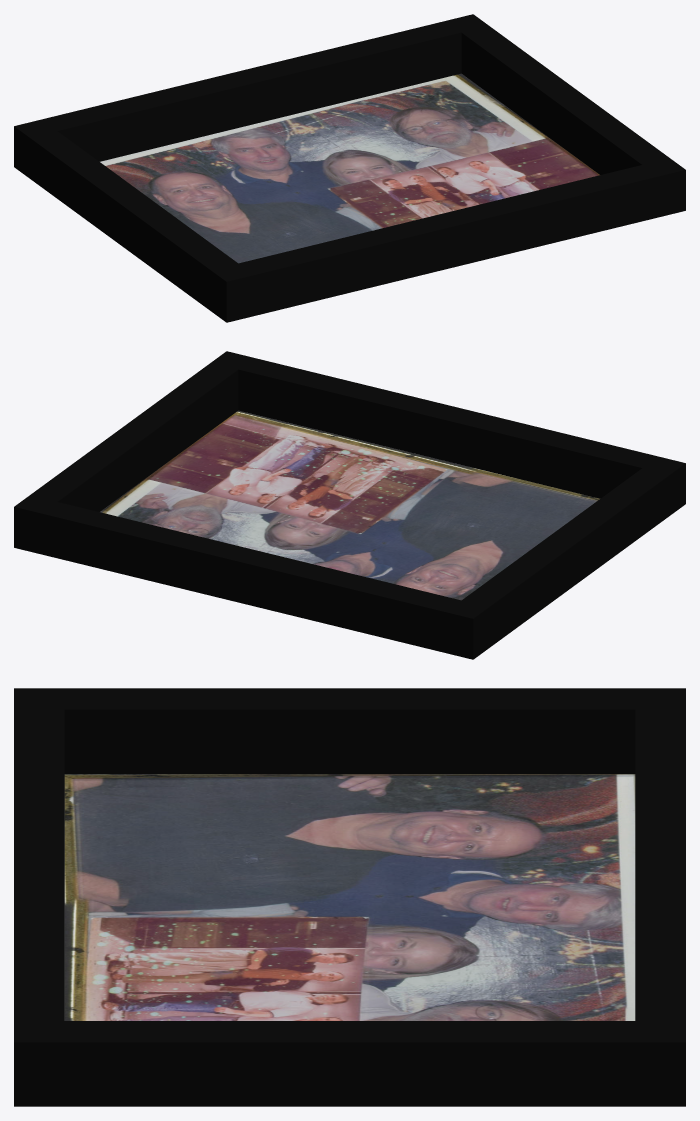
The model's file is frame.obj.
3 renders of one model, top to bottom at view 1: azimuth 30°, elevation 25°; view 2: azimuth 150°, elevation 25°; view 3: azimuth 270°, elevation 25°, orthographic. The views are drawn at different scales.
Visible parts, largest first — view 1: Plane_Plane.002; view 2: Plane_Plane.002; view 3: Plane_Plane.002.
Boxes of the visible parts, x1,y1,x2,y2 form: Plane_Plane.002: [14, 14, 685, 322]; Plane_Plane.002: [14, 351, 685, 659]; Plane_Plane.002: [14, 688, 685, 1106].
Bounding box in the file's own units: 11.72 × 0.9975 × 9.4.
Materials: 2 (1 with a texture image).
